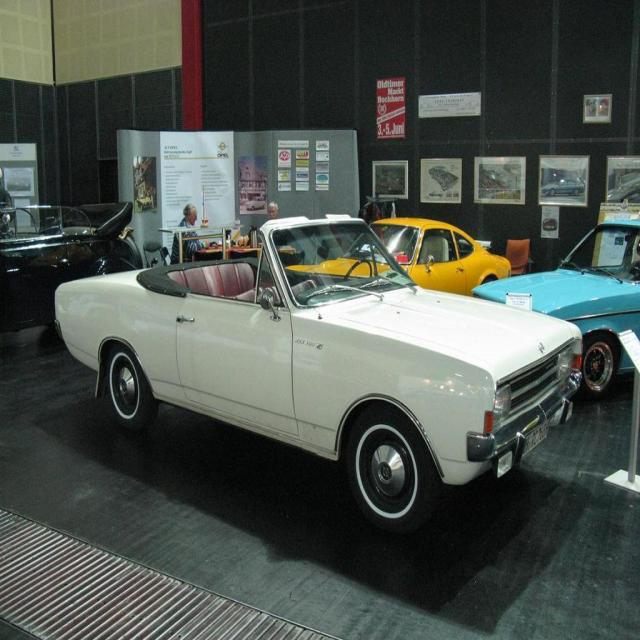other: (41, 212, 584, 530), (465, 217, 639, 397), (285, 206, 513, 301), (0, 210, 93, 306)
